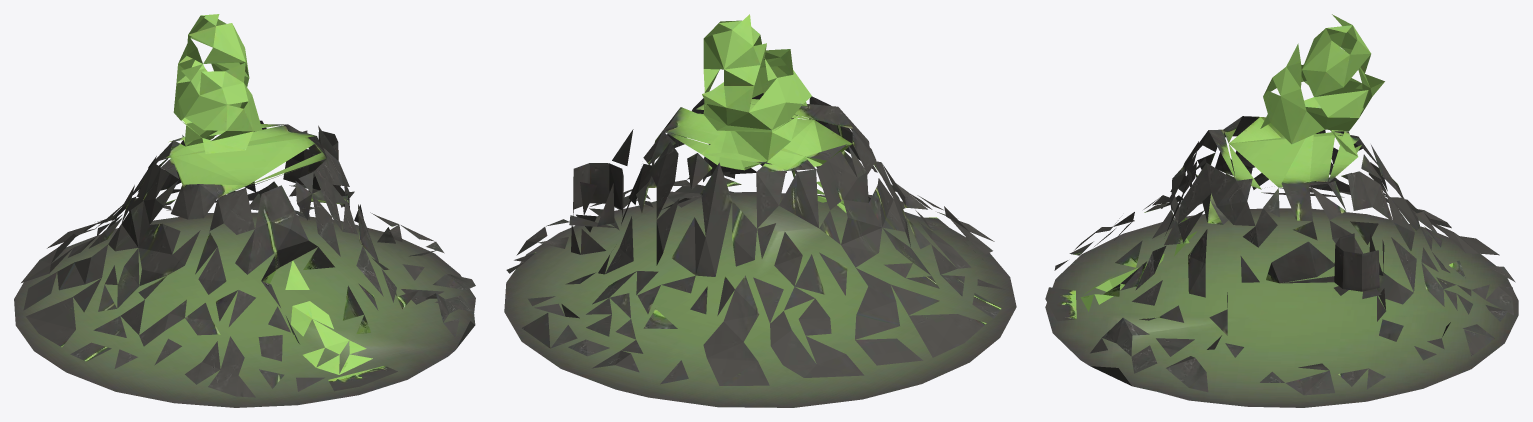
The model's file is plasma_LOD2.glb.
The picture shows the model from 3 angles, left to right: view 1: azimuth 30°, elevation 25°; view 2: azimuth 150°, elevation 25°; view 3: azimuth 270°, elevation 25°; orthographic projection. The views are drawn at different scales.
Parts seen in each view (by area): view 1: vespene_LOD2; view 2: vespene_LOD2; view 3: vespene_LOD2.
Part boxes in pixels (x1,y1,x2,y2): vespene_LOD2: (14,14,475,407); vespene_LOD2: (504,14,1016,407); vespene_LOD2: (1045,14,1518,407).
Size of the model in its own units: 0.9999 by 0.6673 by 0.9999.
1 material, 1 textured.
